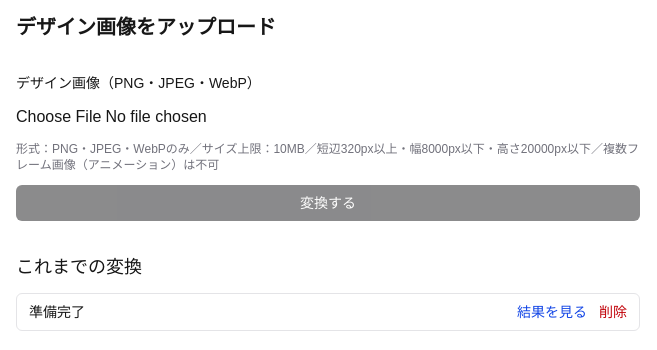
Scenario: Home page › deletes a conversion after inline confirmation and removes it from the list
The image size is (657, 350).
Check: the text "準備完了" is shown, box [29,302,85,322]
Click the button "削除" at {"x": 613, "y": 312}, box [599,302,627,322]
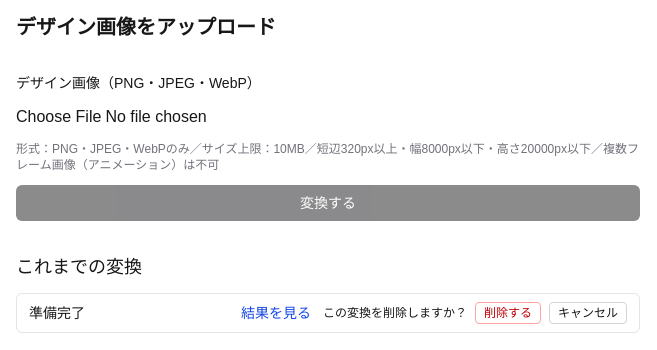
Click the button "削除する" at {"x": 508, "y": 313}, box [475,302,541,324]
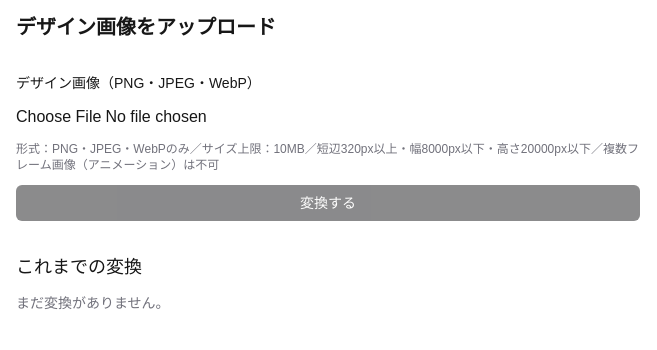
Check: the text "まだ変換がありません。" is shown, box [16,295,170,311]
